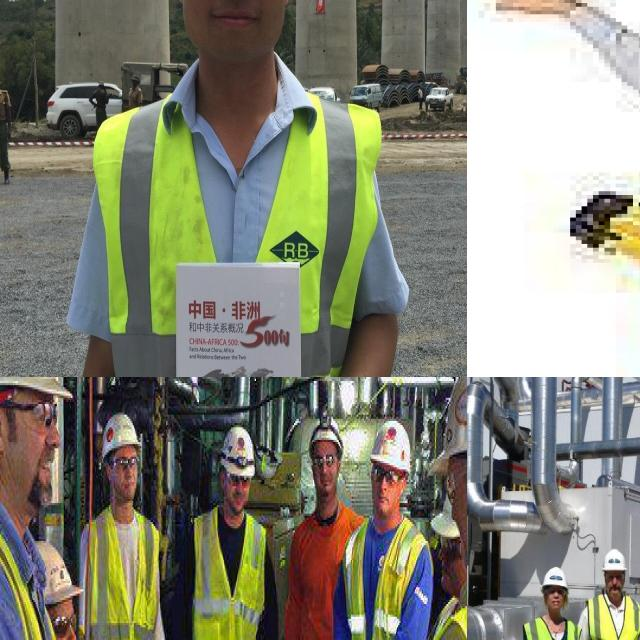No_Ear-Protection: (0, 398, 10, 457)
face_nomask: (9, 389, 63, 503), (184, 0, 299, 42), (436, 454, 467, 578), (373, 465, 404, 520), (313, 444, 345, 497), (218, 468, 250, 521), (115, 436, 143, 492), (546, 582, 566, 620), (605, 574, 625, 604)
glasses: (23, 398, 61, 431), (371, 463, 404, 490), (111, 452, 141, 472), (312, 452, 338, 474), (544, 583, 566, 600), (604, 570, 626, 583)
hand_noglove: (479, 0, 576, 36)
head_helmet: (362, 414, 414, 478), (216, 404, 258, 476), (100, 405, 145, 452), (308, 410, 347, 454), (601, 546, 627, 575), (540, 566, 570, 590)
head_nohelmet: (124, 66, 142, 87), (96, 76, 106, 93)
person: (65, 0, 422, 377), (467, 0, 640, 377), (343, 377, 433, 640), (186, 377, 272, 640), (285, 391, 369, 640), (0, 377, 77, 640), (81, 387, 161, 640), (578, 547, 640, 640), (520, 563, 576, 640), (0, 75, 14, 183), (92, 81, 109, 124), (126, 73, 146, 107), (416, 83, 426, 108)
vest: (99, 98, 363, 377), (71, 503, 167, 640), (189, 496, 271, 640), (0, 511, 90, 640), (345, 503, 429, 640), (585, 594, 640, 640), (522, 615, 577, 640)
